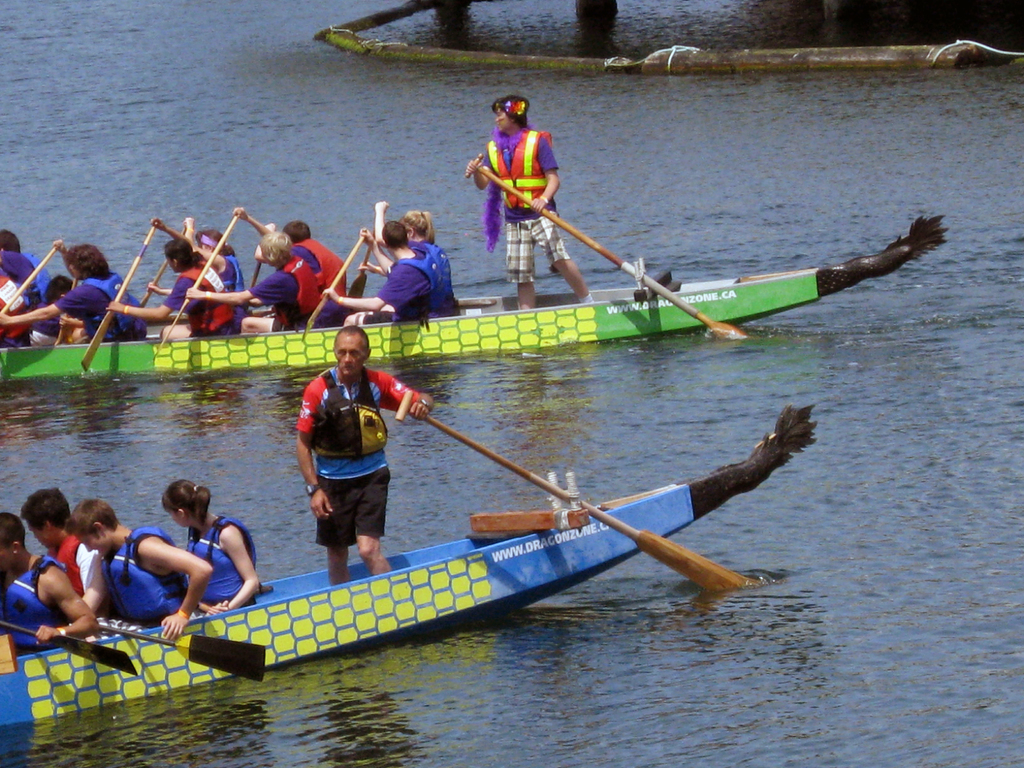Person: (0, 91, 596, 653)
